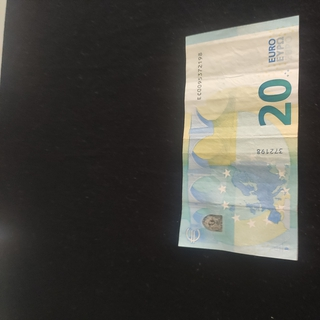20EUROBack: (178, 14, 300, 261)
